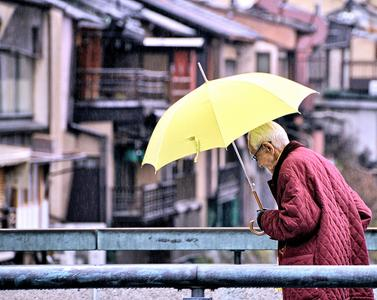person: (248, 122, 376, 300)
